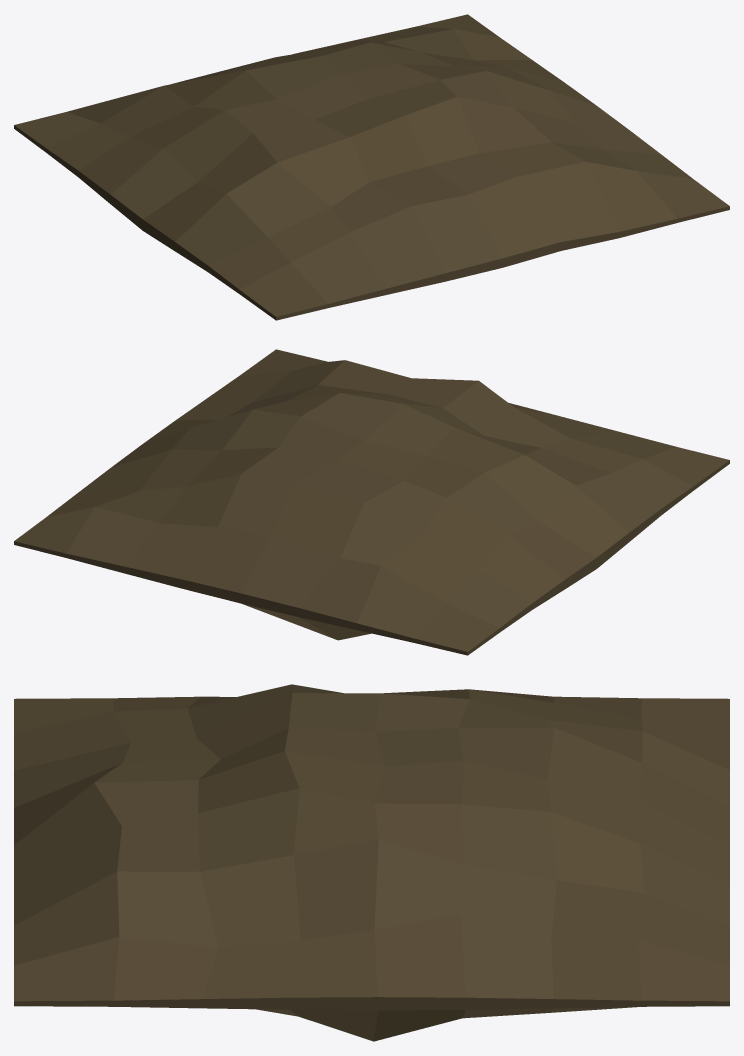
Rendered from BigHump.1.fbx.
The picture shows the model from 3 angles, top to bottom: view 1: azimuth 30°, elevation 25°; view 2: azimuth 150°, elevation 25°; view 3: azimuth 270°, elevation 25°; orthographic projection. The views are drawn at different scales.
Parts seen in each view (by area): view 1: Floor.Hump.1; view 2: Floor.Hump.1; view 3: Floor.Hump.1.
Part boxes in pixels (box(x1,y1,x2,y2)): Floor.Hump.1: box(14, 14, 729, 320); Floor.Hump.1: box(14, 349, 729, 655); Floor.Hump.1: box(14, 684, 729, 1041).
Bounding box in the file's own units: 1299 × 413 × 1300.
